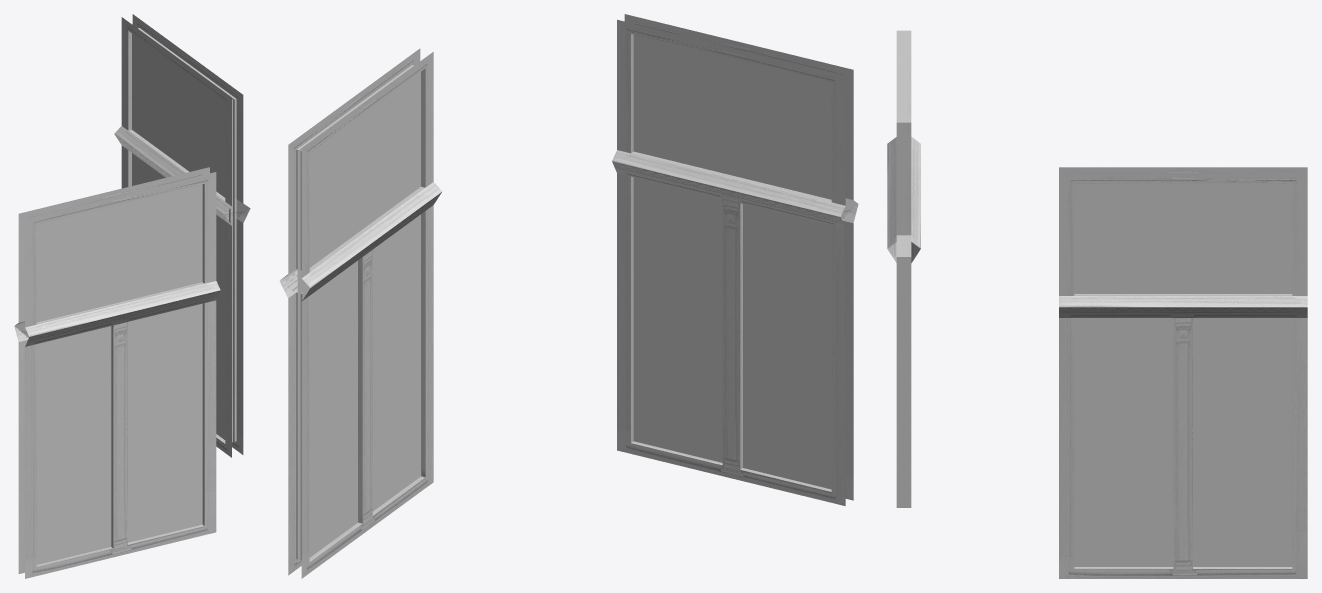
Rendered from WindowCorner1C.fbx.
The picture shows the model from 3 angles, left to right: view 1: azimuth 30°, elevation 25°; view 2: azimuth 150°, elevation 25°; view 3: azimuth 270°, elevation 25°; orthographic projection. The views are drawn at different scales.
Visible parts, largest first — view 1: WindowCorner1C; view 2: WindowCorner1C; view 3: WindowCorner1C.
Boxes of the visible parts, x1=… form: WindowCorner1C: x1=14, y1=14, x2=250, y2=578; WindowCorner1C: x1=279, y1=14, x2=858, y2=578; WindowCorner1C: x1=887, y1=30, x2=1307, y2=578.
Size of the model in its own units: 156 by 180 by 169.
